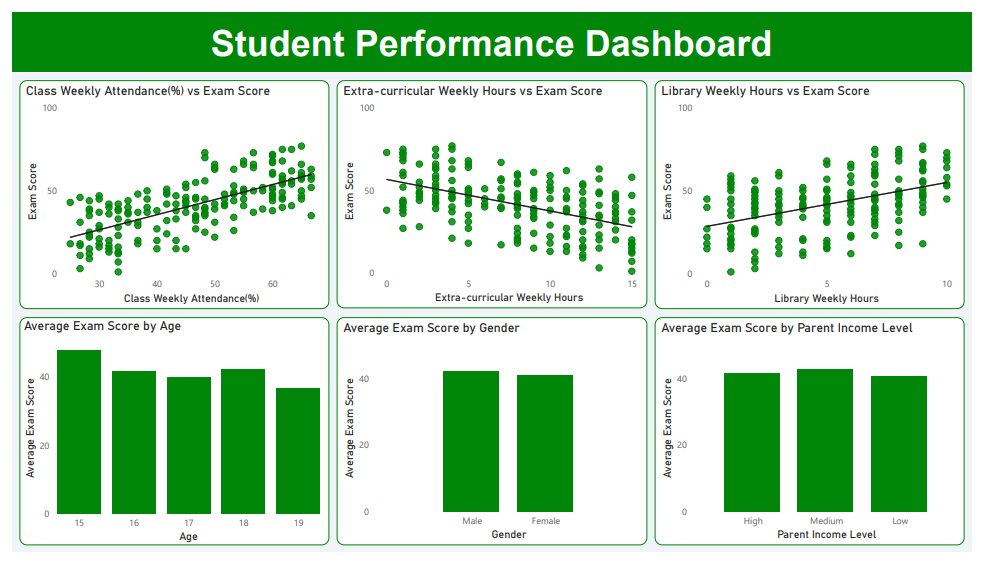

This screenshot's page, from the dashboard's own definition file:
{"tool":"powerbi","page":{"name":"Student Performance Dashboard","canvas":[1280,720],"ordinal":0},"visuals":[{"type":"shape","box":[0,80.6,1280,640],"z":0},{"type":"textbox","box":[0,0,1280,80],"z":1000},{"type":"shape","box":[10.1,90.7,1259.8,619.8],"z":2000},{"type":"scatterChart","title":"Class Weekly Attendance(%) vs Exam Score","fields":{"X":["student_final_data.Class_weekly_attendance_percentage"],"Y":["student_final_data.Previous_Exam_Score"]},"box":[10.1,90.7,413.2,305.7],"z":3000},{"type":"scatterChart","title":"Library Weekly Hours vs Exam Score","fields":{"X":["student_final_data.Library_weekly_hours"],"Y":["student_final_data.Previous_Exam_Score"]},"box":[856.7,90.7,413.2,305.7],"z":4000},{"type":"columnChart","fields":{"Category":["student_final_data.Parent_Income_Level"],"Y":["Avg(student_final_data.Previous_Exam_Score)"]},"box":[856.7,406.5,413.2,304],"z":5000},{"type":"columnChart","fields":{"Category":["student_final_data.Age"],"Y":["Avg(student_final_data.Previous_Exam_Score)"]},"box":[10.1,406.5,413.2,304],"z":6000},{"type":"columnChart","fields":{"Category":["student_final_data.Gender"],"Y":["Avg(student_final_data.Previous_Exam_Score)"]},"box":[433.4,406.5,413.2,304],"z":7000},{"type":"scatterChart","title":"Extra-curricular Weekly Hours vs Exam Score","fields":{"X":["student_final_data.Extra-curricular_weekly_hours"],"Y":["student_final_data.Previous_Exam_Score"]},"box":[433.4,90.7,413.2,304],"z":8000}]}

Visuals, with their boxes in screenshot pixels (x1, y1, x2, y2), scaled from the page's 1280x720 canvas onto the 985x564 screenshot:
shape: l=0, t=63, r=984, b=563
textbox: l=0, t=0, r=984, b=63
shape: l=8, t=71, r=977, b=557
"Class Weekly Attendance(%) vs Exam Score" scatterChart: l=8, t=71, r=326, b=311
"Library Weekly Hours vs Exam Score" scatterChart: l=659, t=71, r=977, b=311
columnChart - student_final_data.Parent_Income_Level x Avg(student_final_data.Previous_Exam_Score): l=659, t=318, r=977, b=557
columnChart - student_final_data.Age x Avg(student_final_data.Previous_Exam_Score): l=8, t=318, r=326, b=557
columnChart - student_final_data.Gender x Avg(student_final_data.Previous_Exam_Score): l=334, t=318, r=651, b=557
"Extra-curricular Weekly Hours vs Exam Score" scatterChart: l=334, t=71, r=651, b=309
